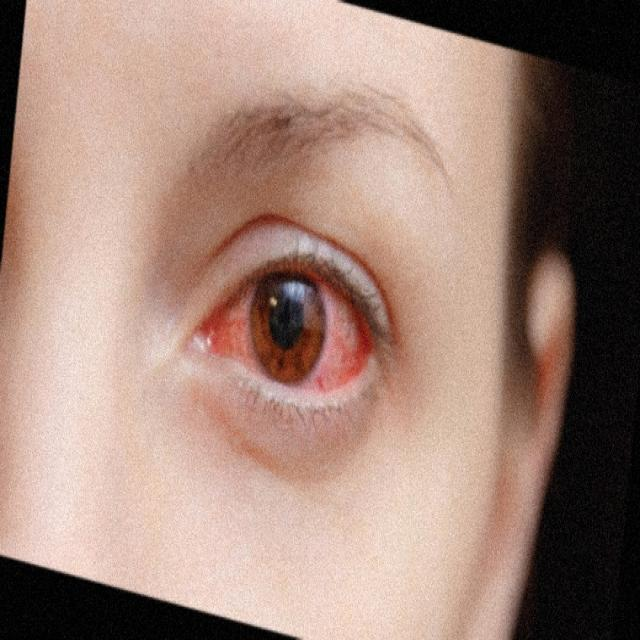Keratitis: (196, 231, 380, 443)
